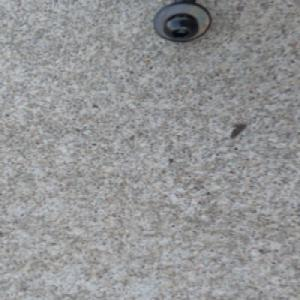BoltWasher: (152, 0, 214, 43)
